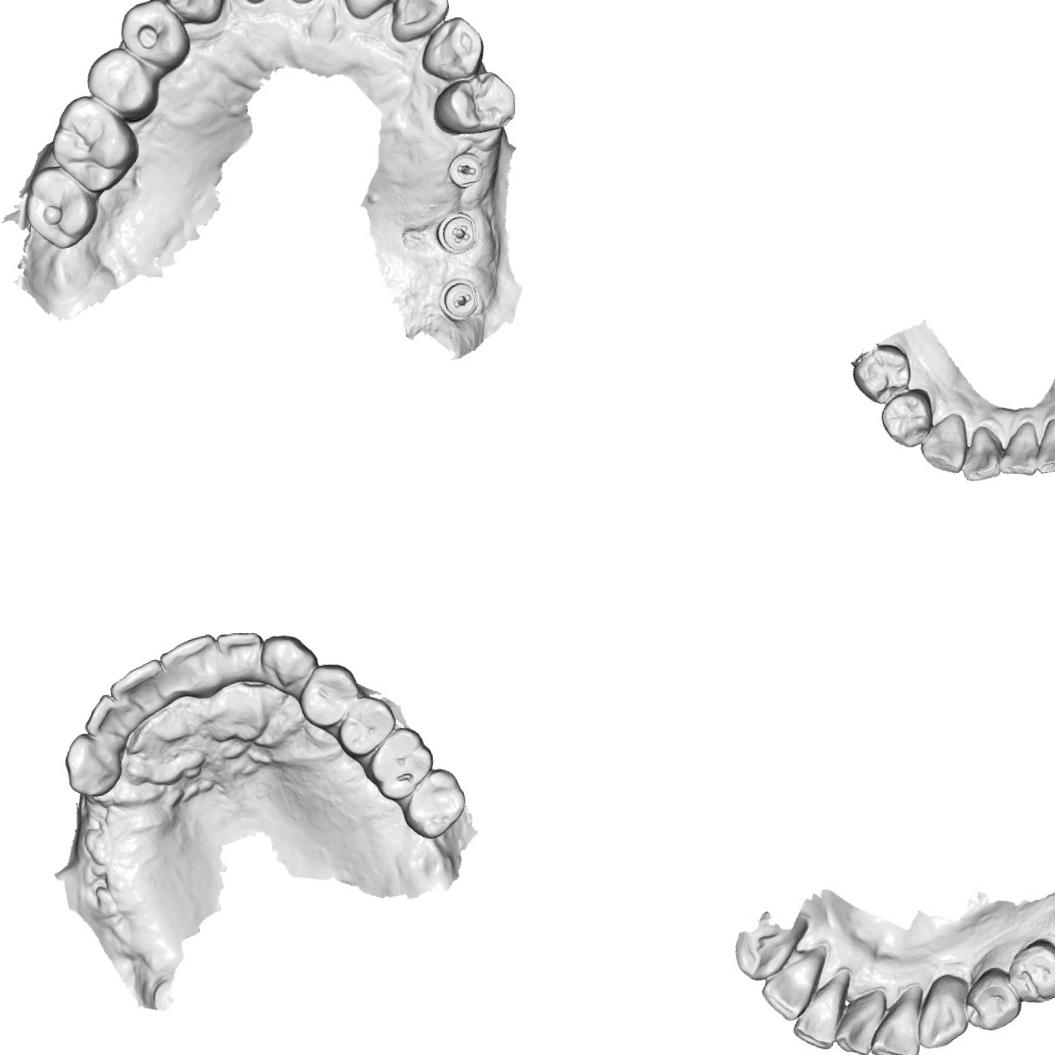canine: (414, 12, 489, 87), (58, 726, 128, 802), (908, 976, 973, 1050), (258, 633, 323, 697), (916, 411, 974, 479), (159, 0, 231, 31)
implant_minus: (436, 274, 484, 324), (444, 153, 486, 195)
implant_plus: (438, 212, 480, 250)
incisor: (750, 945, 842, 1028), (781, 962, 863, 1055), (860, 978, 935, 1055), (825, 982, 896, 1055), (155, 633, 227, 704), (103, 655, 172, 724), (379, 0, 455, 47), (78, 688, 130, 750), (992, 418, 1042, 481), (213, 633, 269, 688), (956, 424, 1004, 484), (331, 0, 416, 21), (1027, 414, 1055, 476)
molar: (44, 90, 142, 199), (18, 160, 103, 255), (360, 720, 440, 804), (396, 764, 473, 844)
premolar: (424, 66, 522, 141), (81, 40, 160, 127), (115, 0, 195, 78), (291, 657, 364, 734), (329, 689, 403, 762), (848, 340, 915, 408), (877, 386, 938, 452), (964, 968, 1024, 1034), (1009, 936, 1055, 1003)
